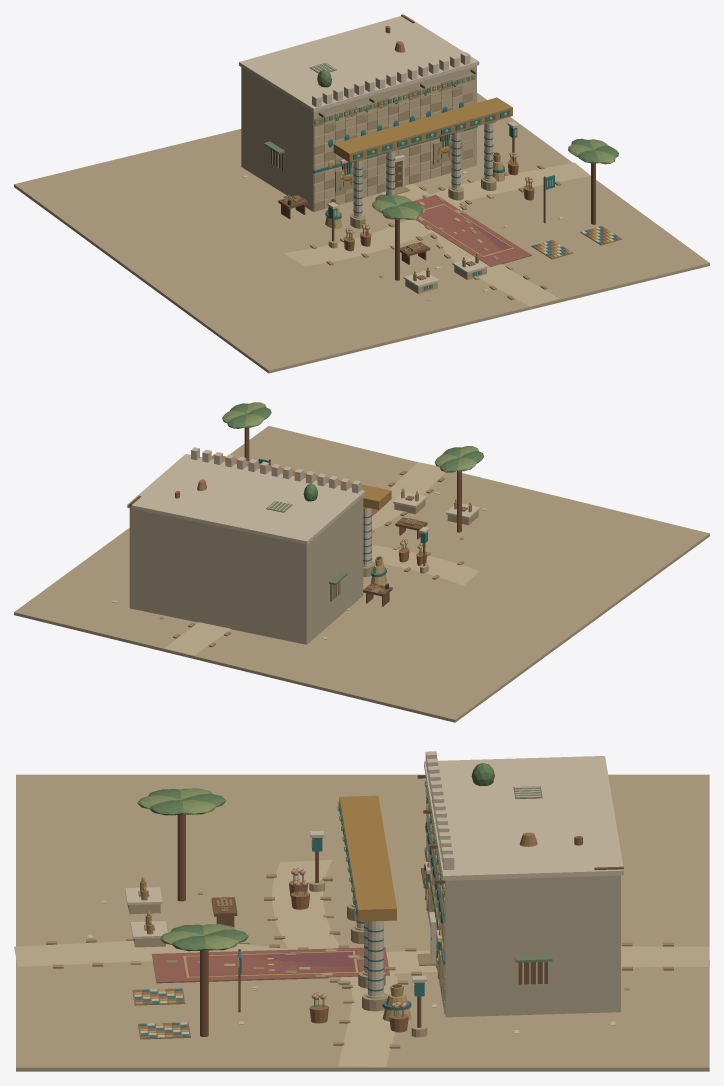
Rendered from city-palace.glb.
3 views of the same model, one above another, from view 1: azimuth 30°, elevation 25°; view 2: azimuth 150°, elevation 25°; view 3: azimuth 270°, elevation 25° (orthographic). The views are drawn at different scales.
Parts seen in each view (by area): view 1: city-palace; view 2: city-palace; view 3: city-palace.
Part boxes in pixels (x1,y1,x2,y2): city-palace: (14, 14, 709, 373); city-palace: (14, 402, 709, 722); city-palace: (14, 751, 709, 1071).
Size of the model in its own units: 32.04 by 8.47 by 32.1.
